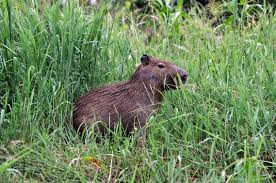capivara: (72, 53, 187, 146)
